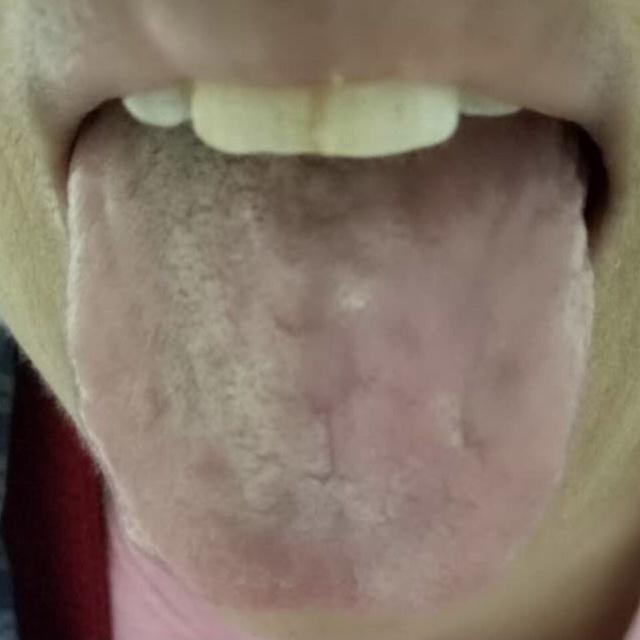baitaishe: (64, 159, 596, 617)
